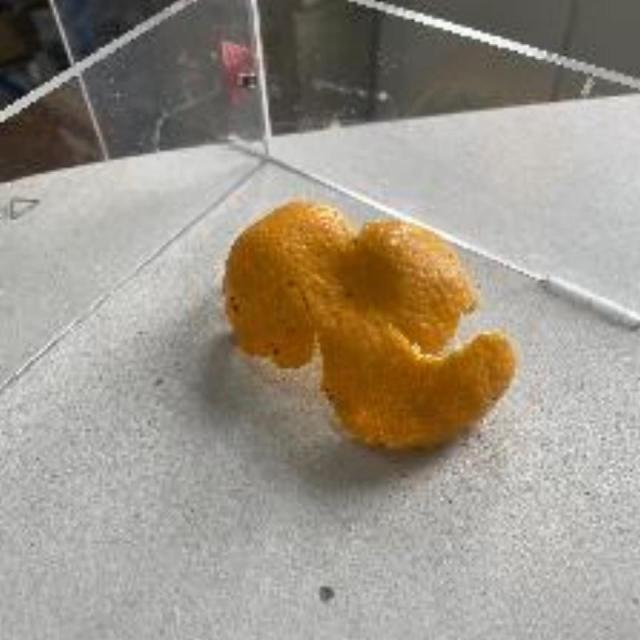orange-peel: (217, 197, 517, 450)
